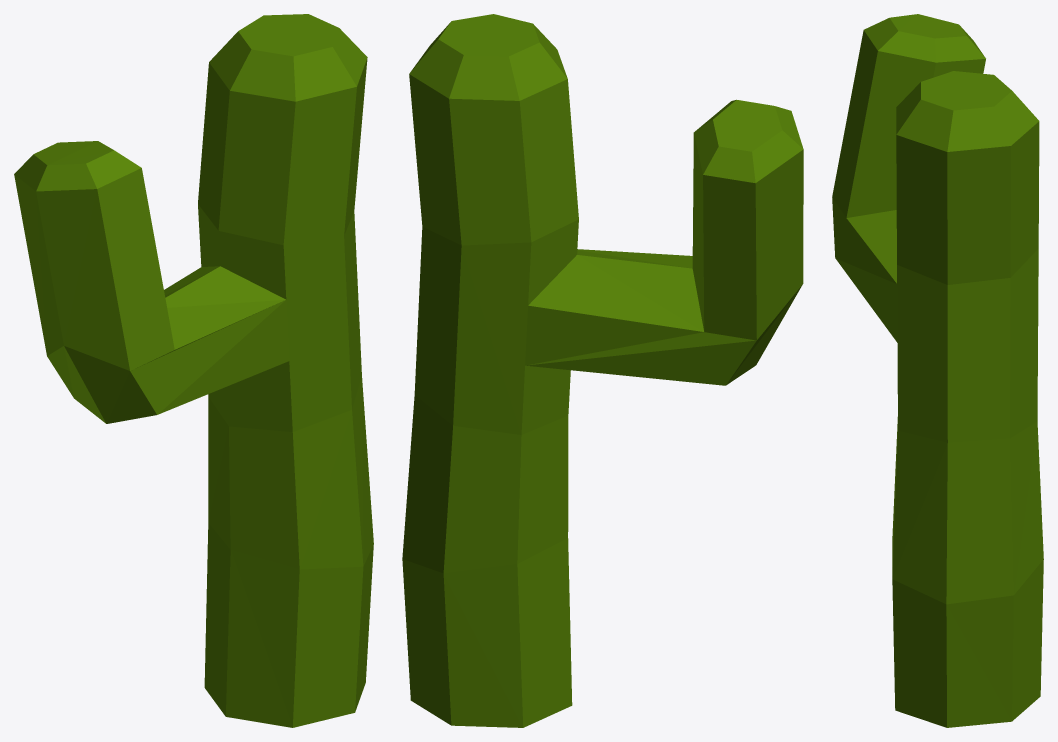
File: doubleCactus.gltf
The picture shows the model from 3 angles, left to right: view 1: azimuth 30°, elevation 25°; view 2: azimuth 150°, elevation 25°; view 3: azimuth 270°, elevation 25°; orthographic projection. The views are drawn at different scales.
Visible parts, largest first — view 1: Cylinder; view 2: Cylinder; view 3: Cylinder.
Boxes of the visible parts, x1,y1,x2,y2 form: Cylinder: [14, 14, 373, 727]; Cylinder: [402, 14, 803, 727]; Cylinder: [832, 14, 1043, 727].
Bounding box in the file's own units: 4.99 × 8.75 × 2.77.
